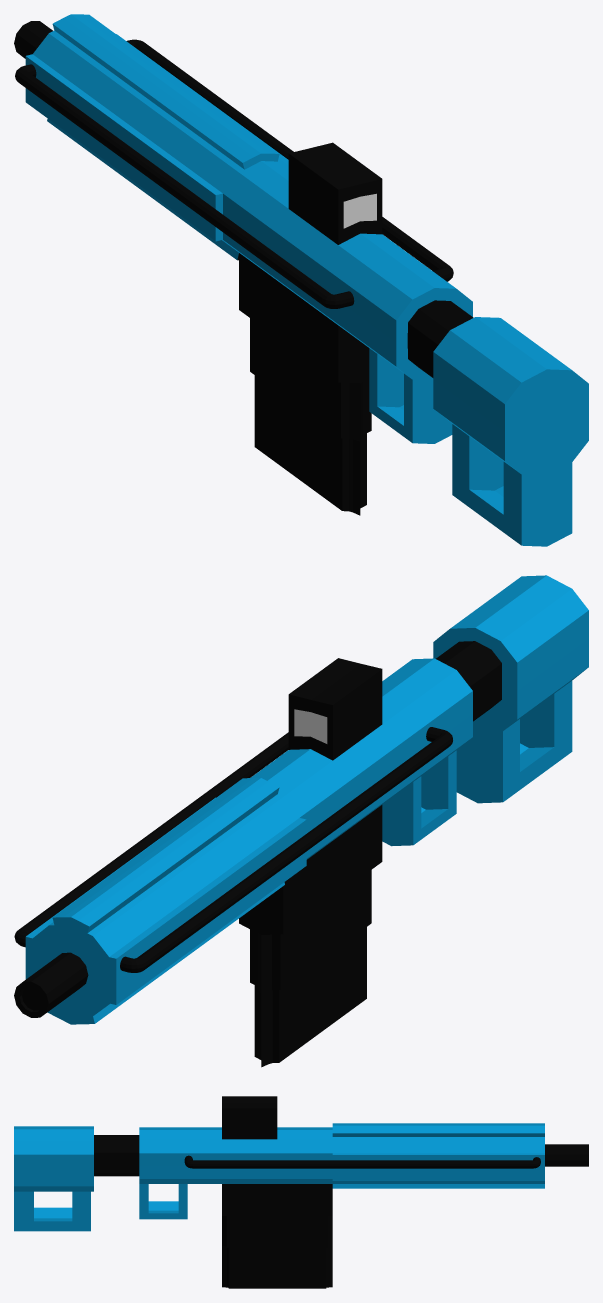
Rendered from tüfek.fbx.
3 views of the same model, one above another, from view 1: azimuth 30°, elevation 25°; view 2: azimuth 150°, elevation 25°; view 3: azimuth 270°, elevation 25° (orthographic). The views are drawn at different scales.
Visible parts, largest first — view 1: Cylinder; view 2: Cylinder; view 3: Cylinder.
Part boxes in pixels (x1,y1,x2,y2): Cylinder: (14, 14, 588, 546); Cylinder: (14, 575, 588, 1067); Cylinder: (14, 1096, 588, 1288).
Size of the model in its own units: 58.13 by 141 by 398.
